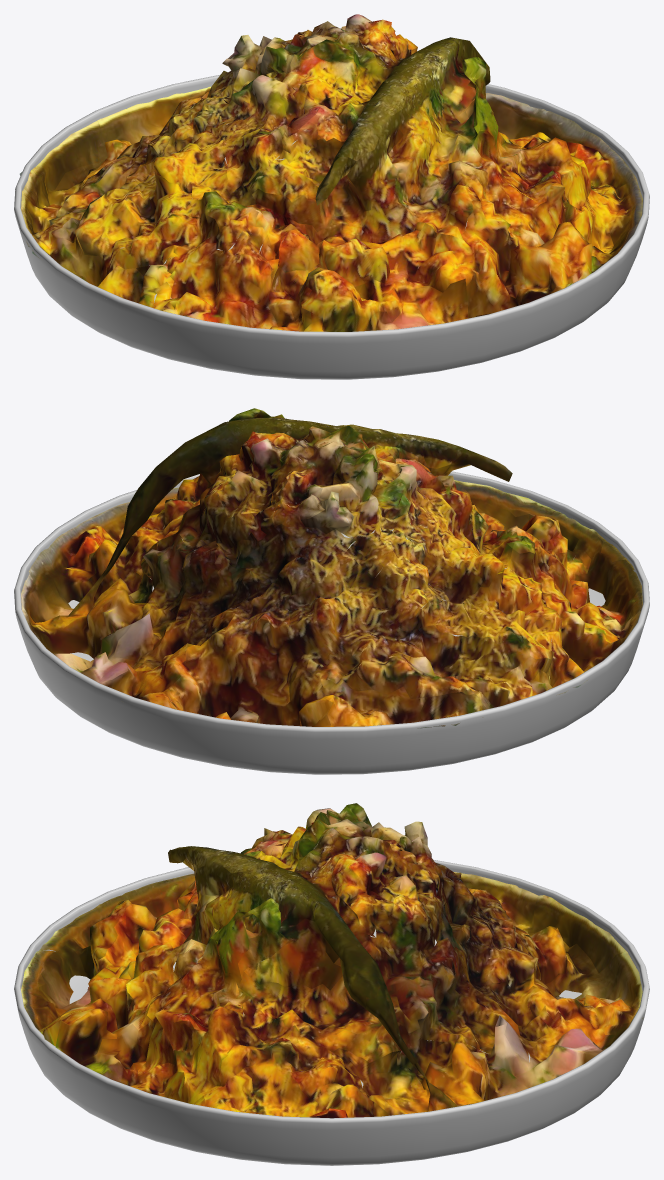
The picture shows the model from 3 angles, top to bottom: view 1: azimuth 30°, elevation 25°; view 2: azimuth 150°, elevation 25°; view 3: azimuth 270°, elevation 25°; orthographic projection.
Parts seen in each view (by area): view 1: pCylinder2; view 2: pCylinder2; view 3: pCylinder2.
Part boxes in pixels (x1=…): pCylinder2: x1=14, y1=14, x2=649, y2=379; pCylinder2: x1=14, y1=408, x2=649, y2=774; pCylinder2: x1=14, y1=803, x2=649, y2=1165.
Size of the model in its own units: 6.86 by 2.69 by 6.86.
2 materials, 1 textured.
